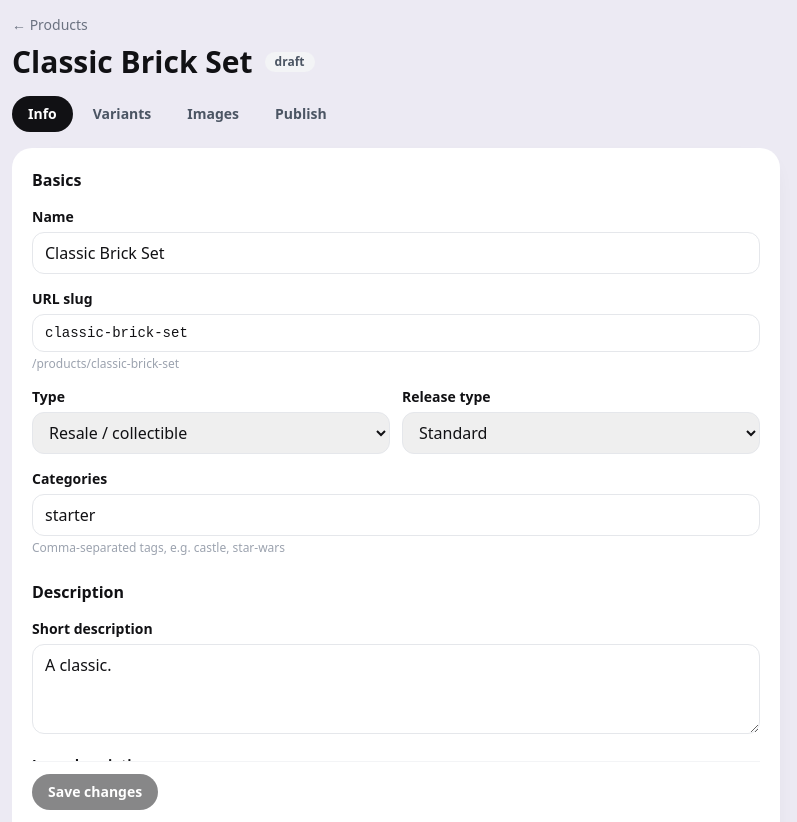
Scenario: ProductDetail › unsaved Info edits guard tab switching › switches tabs when the confirm is accepted
expect the heading "Classic Brick Set" is shown: met, box [12,44,253,80]
Replace the text in the field labelled "Name" with "Renamed Set". click: (396,253)
box: [32,232,760,274]
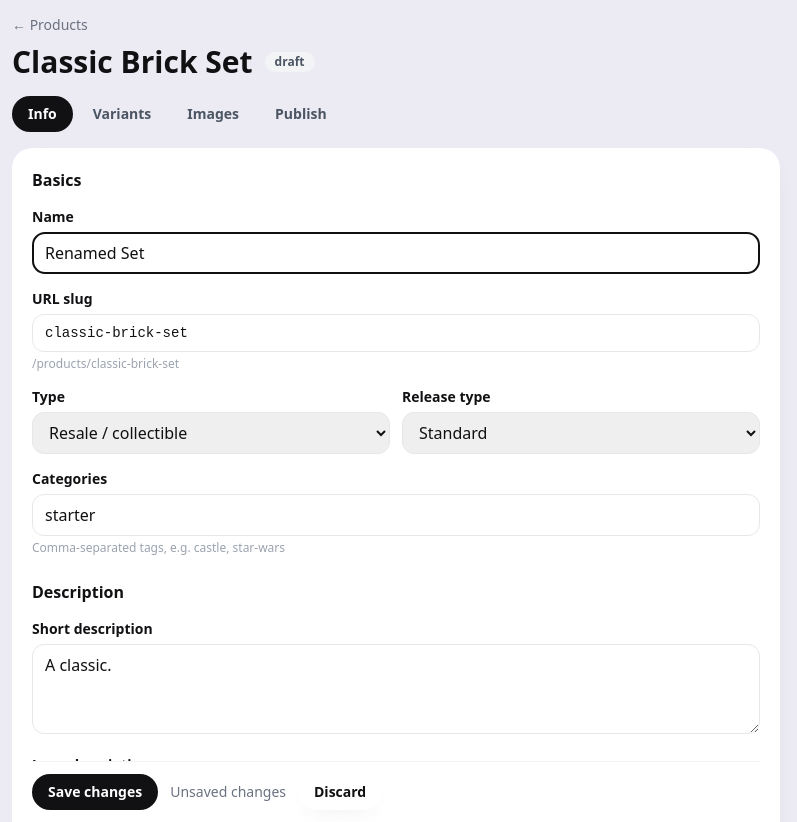
Click the button "Variants". click: (122,114)
box: [77,96,167,132]
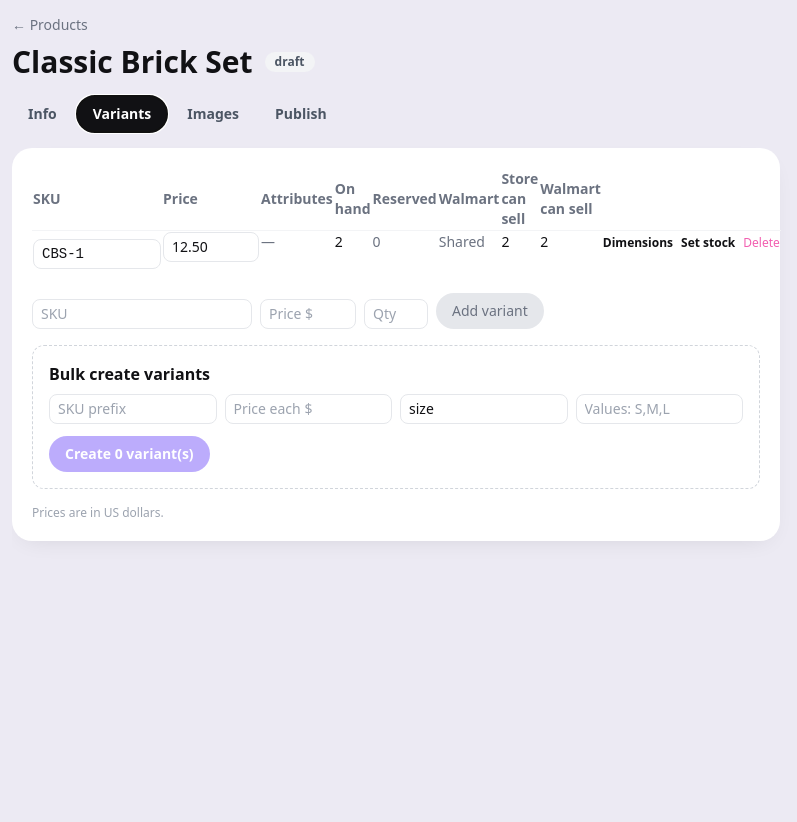
expect the button "Add variant" is shown: met, box [436,293,544,329]
